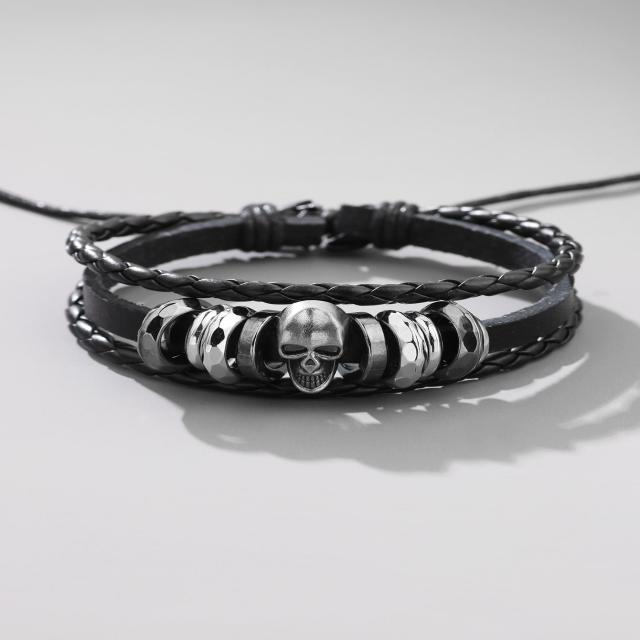bracelet: (3, 120, 640, 443)
